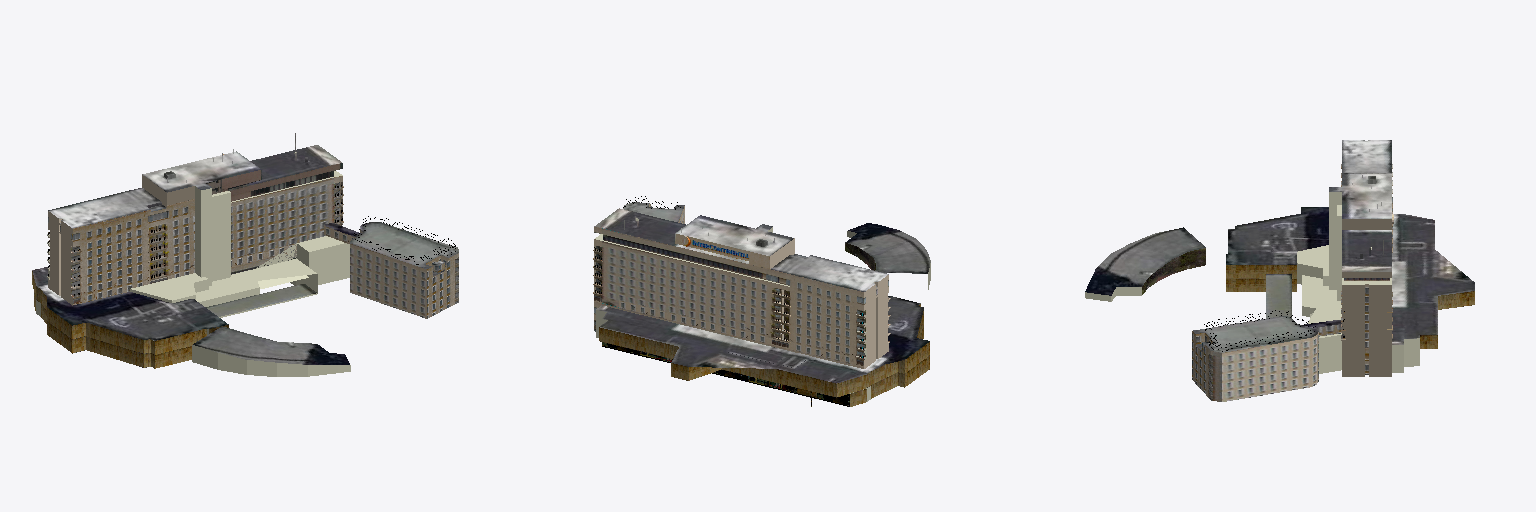
The picture shows the model from 3 angles: view 1: azimuth 30°, elevation 25°; view 2: azimuth 150°, elevation 25°; view 3: azimuth 270°, elevation 25°; orthographic projection.
Parts seen in each view (by area): view 1: Mesh1 Model, Mesh2 Model, Mesh5 Model; view 2: Mesh1 Model, Mesh5 Model, Mesh2 Model; view 3: Mesh1 Model, Mesh2 Model, Mesh5 Model.
Boxes of the visible parts, box(x1,y1,x2,y2) form: Mesh1 Model: box(32, 133, 361, 368); Mesh2 Model: box(350, 216, 458, 318); Mesh5 Model: box(192, 326, 350, 376); Mesh1 Model: box(593, 208, 929, 406); Mesh5 Model: box(845, 223, 930, 289); Mesh2 Model: box(623, 196, 684, 223); Mesh1 Model: box(1226, 140, 1474, 376); Mesh2 Model: box(1192, 310, 1318, 401); Mesh5 Model: box(1085, 227, 1205, 301).
Bounding box in the file's own units: 13481 × 4963 × 13154.
13 materials, 10 textured.